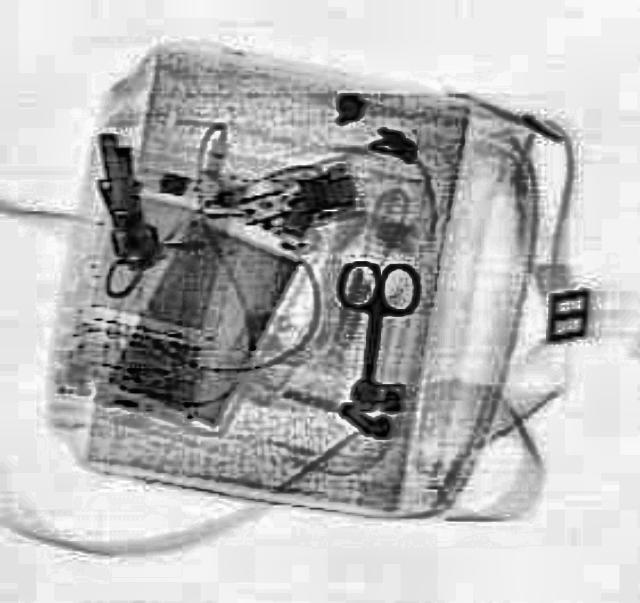Scissors: (317, 254, 421, 390)
